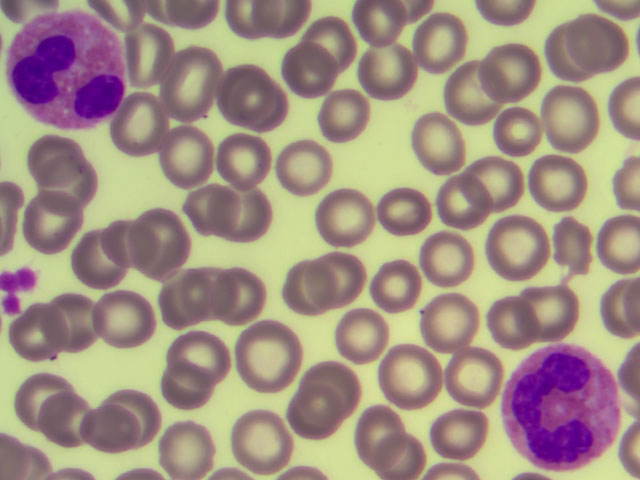Platelets: (1, 267, 38, 316)
RBC: (27, 131, 85, 190), (40, 149, 98, 208), (26, 192, 84, 251), (60, 228, 118, 287), (85, 212, 143, 271), (127, 215, 185, 274), (180, 177, 238, 236), (203, 174, 261, 233), (222, 127, 280, 186), (160, 123, 218, 182), (112, 92, 170, 151), (162, 52, 220, 111), (133, 28, 191, 87), (220, 65, 278, 124), (280, 42, 338, 101), (305, 16, 363, 75), (309, 83, 367, 142), (274, 137, 332, 196), (304, 187, 362, 246), (369, 175, 427, 234), (406, 110, 464, 169), (435, 63, 493, 122), (481, 41, 539, 100), (417, 15, 475, 74), (365, 40, 423, 99), (354, 2, 412, 61), (533, 20, 591, 79), (569, 10, 627, 69), (546, 88, 604, 147), (487, 103, 545, 162), (537, 156, 595, 215), (548, 211, 606, 270), (582, 222, 640, 281), (524, 279, 582, 338), (485, 289, 543, 348), (488, 220, 546, 279), (469, 157, 527, 216), (424, 174, 482, 233), (419, 227, 477, 286), (420, 291, 478, 350), (438, 347, 496, 406), (438, 405, 496, 464), (377, 421, 435, 480), (338, 406, 396, 465), (373, 347, 431, 406), (342, 303, 400, 362), (378, 262, 436, 321), (321, 243, 379, 302), (283, 258, 341, 317), (239, 333, 297, 392), (283, 383, 341, 442), (304, 352, 362, 411), (236, 409, 294, 468), (158, 421, 216, 480), (150, 364, 208, 423), (180, 321, 238, 380), (111, 385, 169, 444), (90, 396, 148, 455), (46, 389, 104, 448), (19, 370, 77, 429), (97, 293, 155, 352), (157, 268, 215, 327), (188, 260, 246, 319), (214, 270, 272, 329), (51, 294, 109, 353), (9, 304, 67, 363)
WBC: (501, 342, 621, 474), (5, 14, 130, 129)
